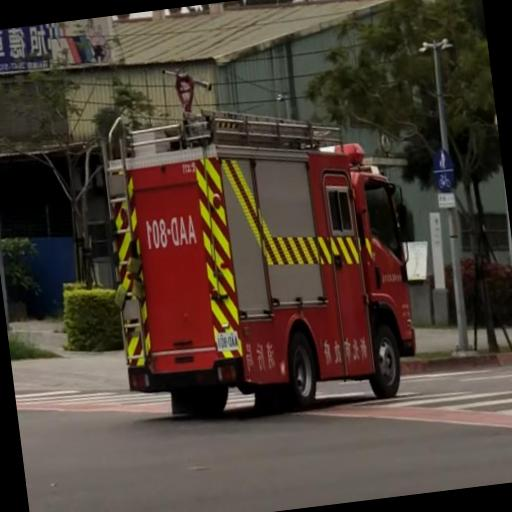fire truck: (103, 71, 416, 415)
